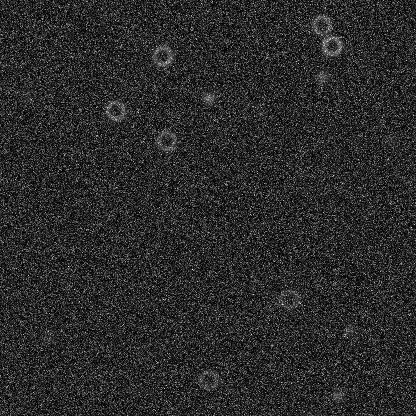Ring: (276, 287, 300, 311), (154, 128, 178, 152), (150, 44, 174, 68), (103, 98, 127, 122), (240, 100, 264, 124), (319, 33, 343, 57), (309, 12, 333, 36), (196, 367, 220, 391)
Spot: (340, 322, 356, 338), (314, 68, 330, 84), (20, 88, 36, 104), (382, 131, 398, 147), (40, 331, 56, 347), (200, 89, 216, 105), (329, 387, 345, 403)
